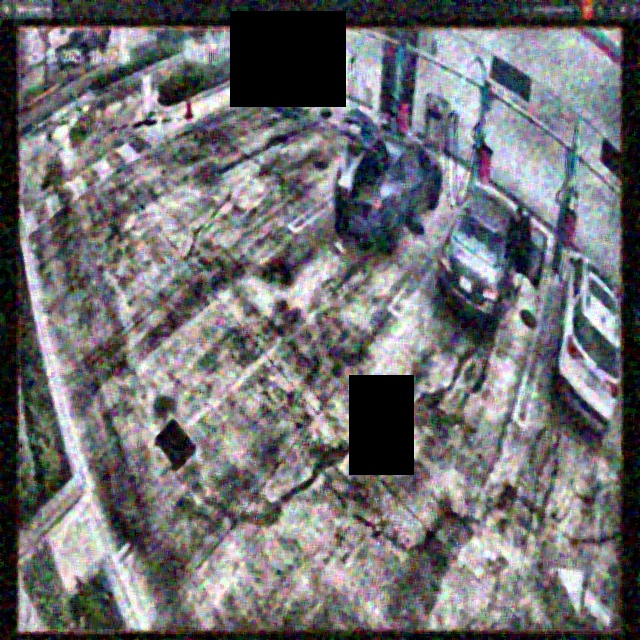Car: (336, 108, 442, 247), (439, 185, 540, 328)
